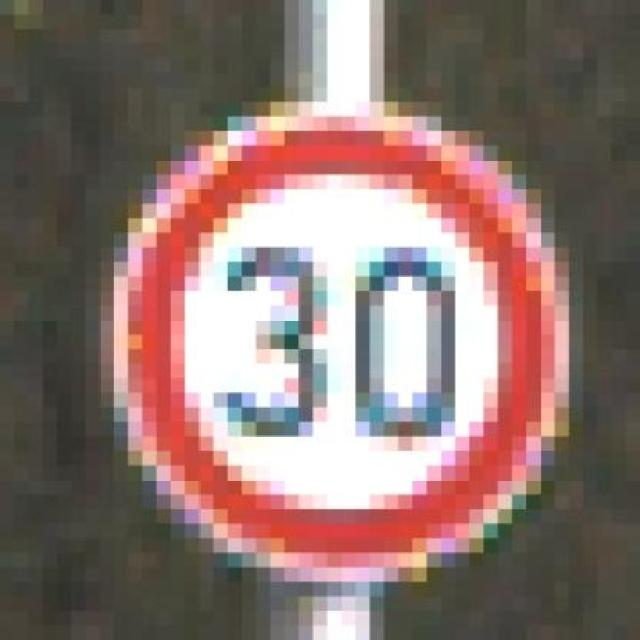forb_speed_over_30: (129, 123, 560, 566)
